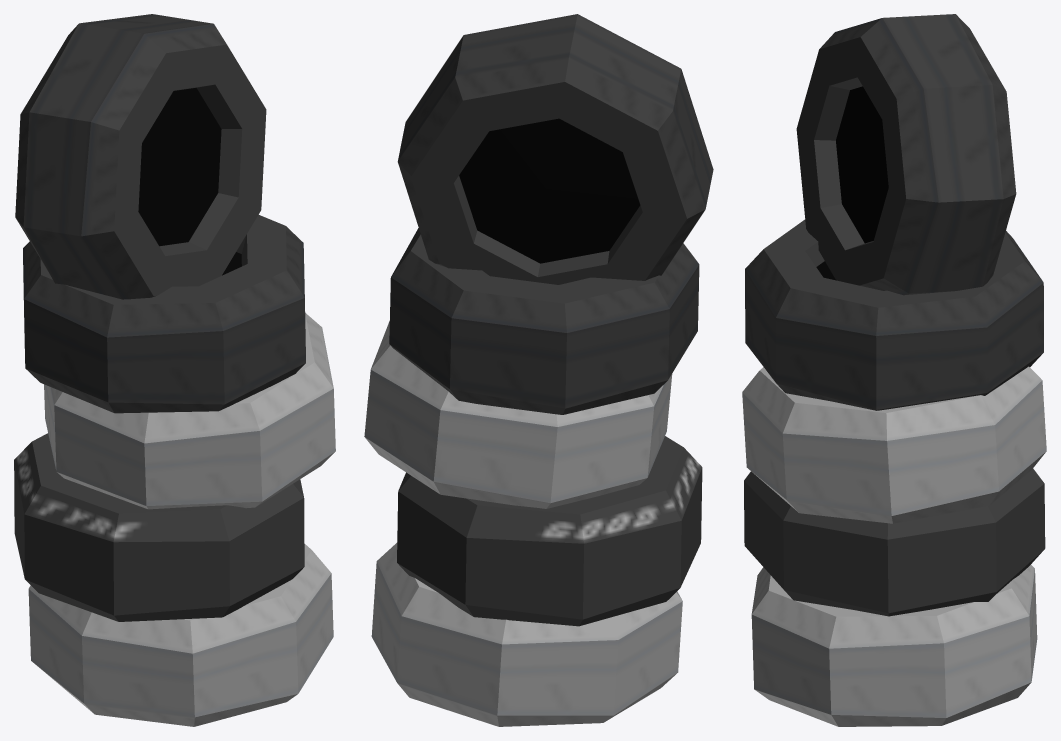
The model's file is SM_Prop_Tyre_Stack_03.fbx.
3 renders of one model, left to right at view 1: azimuth 30°, elevation 25°; view 2: azimuth 150°, elevation 25°; view 3: azimuth 270°, elevation 25°, orthographic. The views are drawn at different scales.
Visible parts, largest first — view 1: SM_Prop_Tyre_Stack_03; view 2: SM_Prop_Tyre_Stack_03; view 3: SM_Prop_Tyre_Stack_03.
Part boxes in pixels (bbox=[...]): SM_Prop_Tyre_Stack_03: bbox=[14, 14, 335, 726]; SM_Prop_Tyre_Stack_03: bbox=[364, 14, 713, 726]; SM_Prop_Tyre_Stack_03: bbox=[742, 14, 1046, 726].
Size of the model in its own units: 74.46 by 152 by 64.5.
